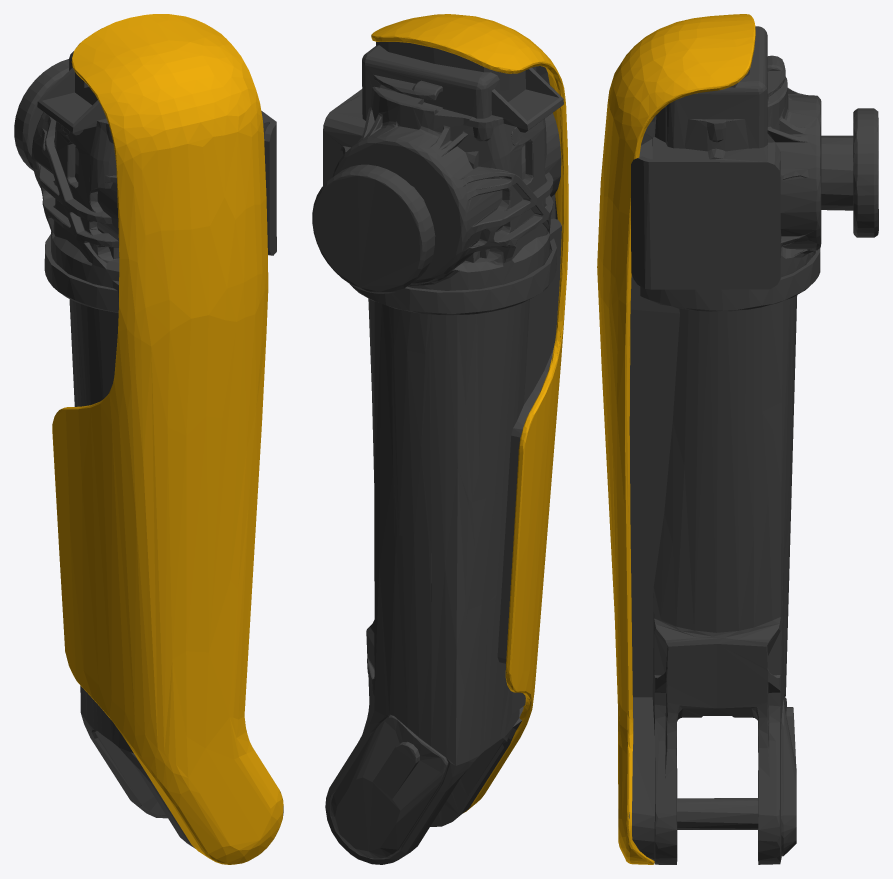
The model's file is rear_right_upper_leg.dae.
The picture shows the model from 3 angles, left to right: view 1: azimuth 30°, elevation 25°; view 2: azimuth 150°, elevation 25°; view 3: azimuth 270°, elevation 25°; orthographic projection. The views are drawn at different scales.
Visible parts, largest first — view 1: rear_right_upper_leg; view 2: rear_right_upper_leg; view 3: rear_right_upper_leg.
Part boxes in pixels (x1,y1,x2,y2): rear_right_upper_leg: [14, 14, 283, 864]; rear_right_upper_leg: [312, 14, 568, 864]; rear_right_upper_leg: [597, 14, 878, 864].
Size of the model in its own units: 0.1011 by 0.1322 by 0.4185.
